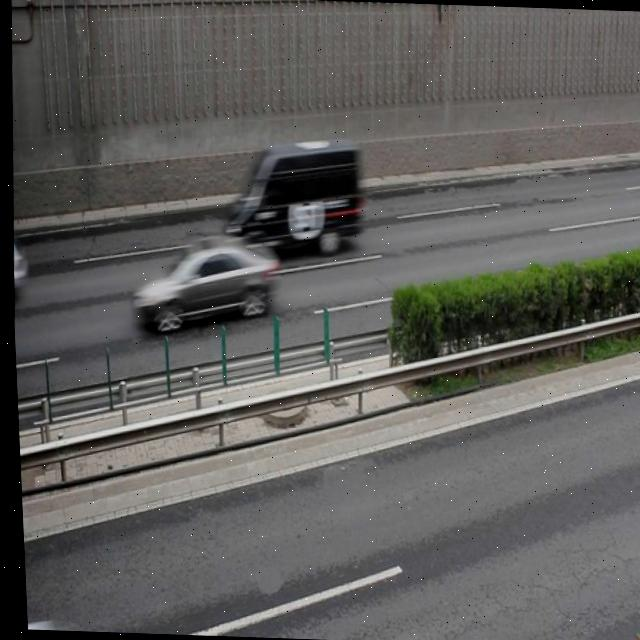car: (127, 235, 277, 332)
truck: (219, 134, 364, 256)
